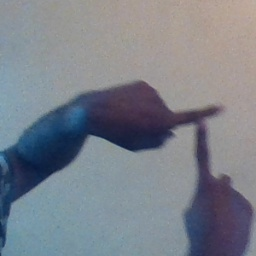T: (155, 90, 242, 202)
